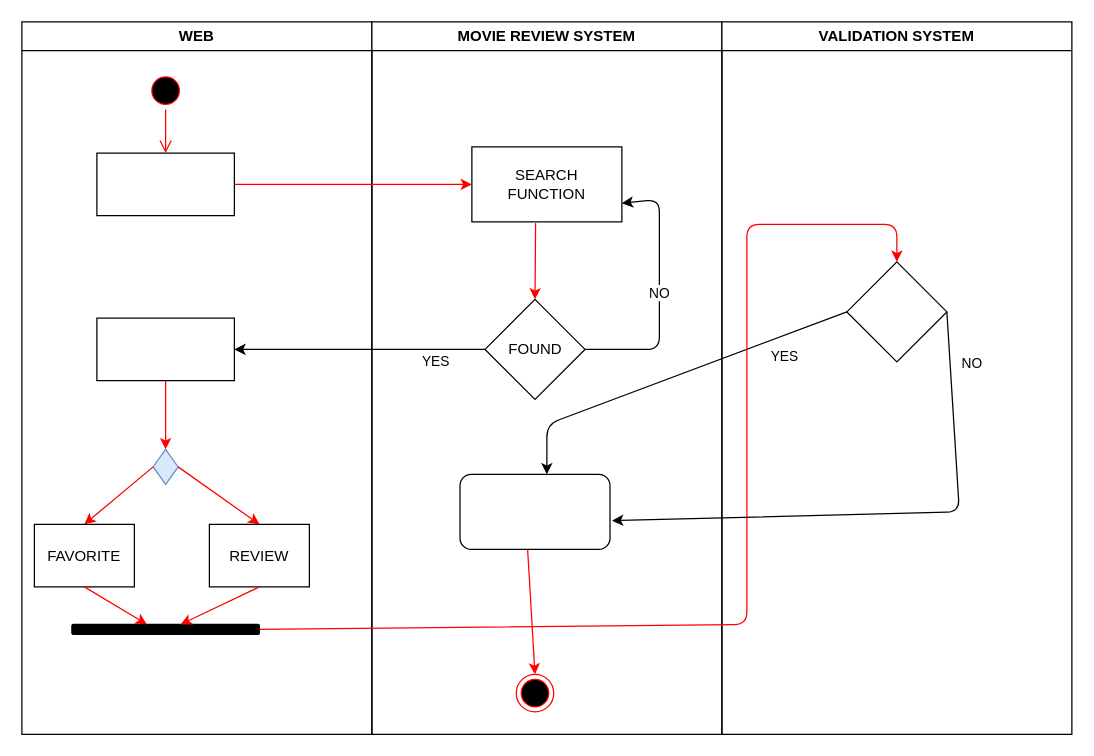
The diagram is 1094 pixels wide and 756 high, and some of its shapes have lost their labels. The centre of each missing label's shape, as x and y in pixels:
"CHECK IF VALID" goes at pixel 896 311.
"DISPLAY DATA" goes at pixel 165 349.
"LOGGED_IN" goes at pixel 165 184.
"NOTIFY USER" goes at pixel 534 511.
